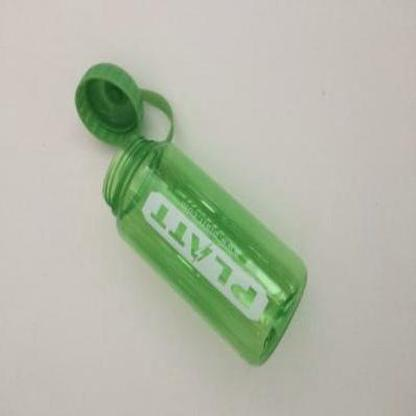plastic bottle: (74, 65, 307, 365)
